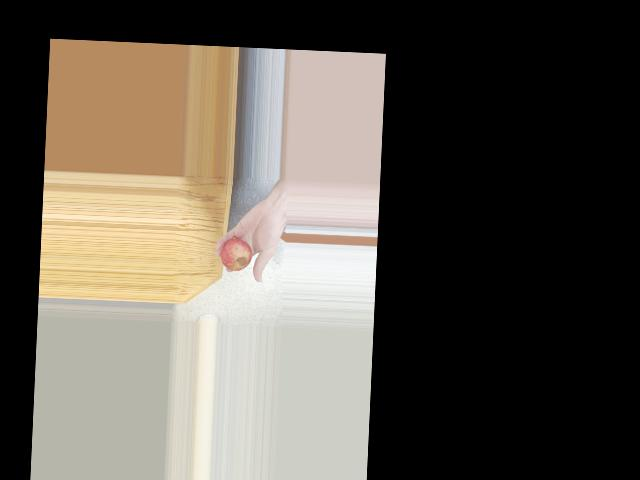apple: (218, 231, 253, 273)
